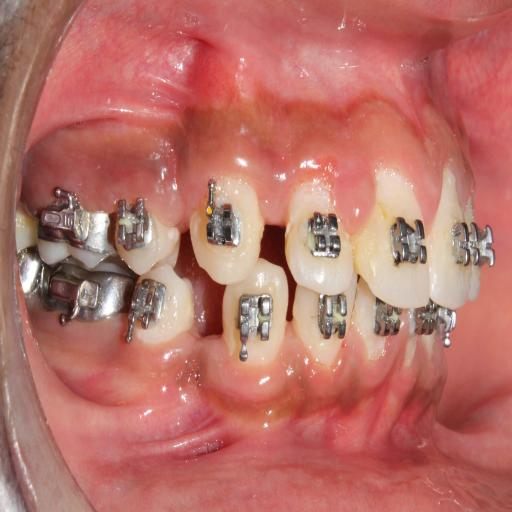correct_brace: (109, 192, 183, 278), (199, 188, 246, 261), (301, 204, 346, 268), (387, 206, 429, 272)
incorrect_brace: (284, 180, 357, 298), (112, 197, 156, 254)
